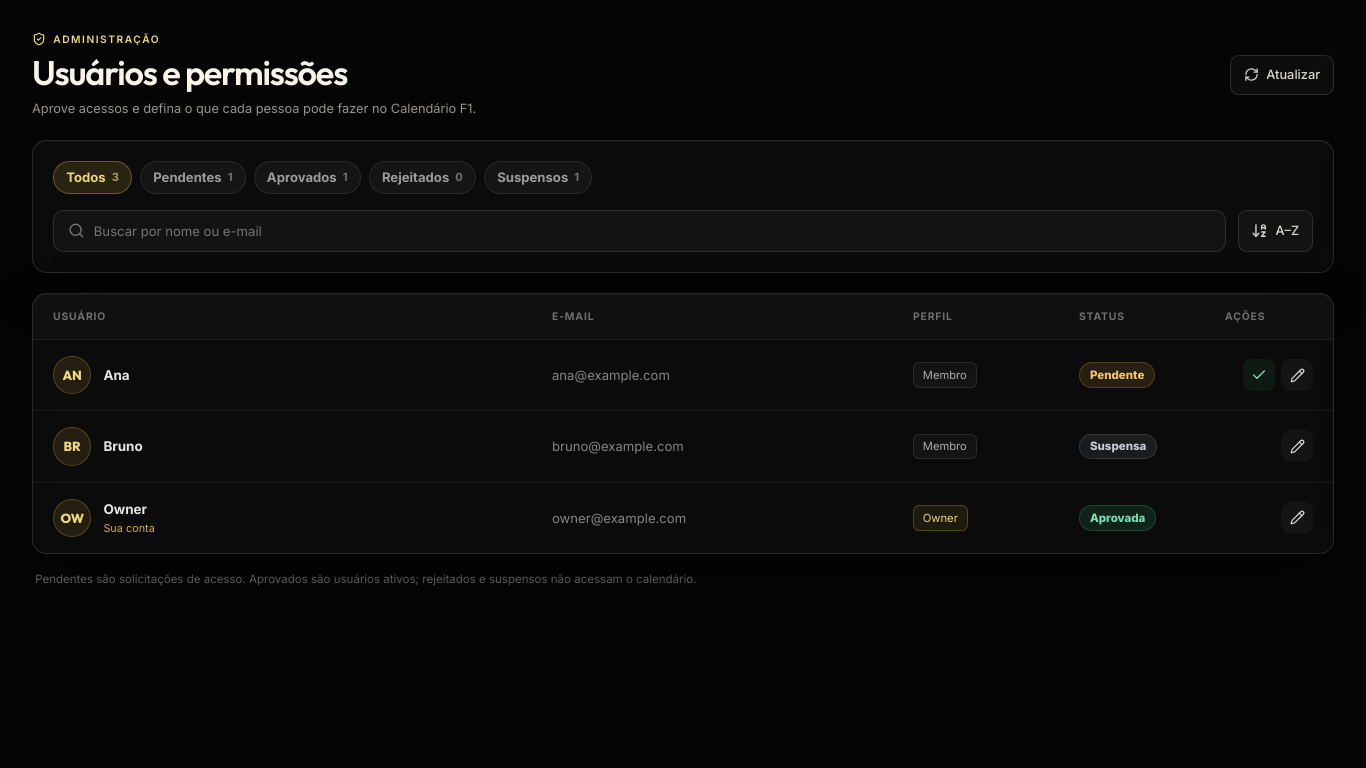
Scenario: reference-style users panel › uses custom status/permission controls and retains a failed draft
The width and height of the screenshot is (1366, 768).
Click the button named "Editar Ana" at (1297, 375), box [1281,359,1313,391]
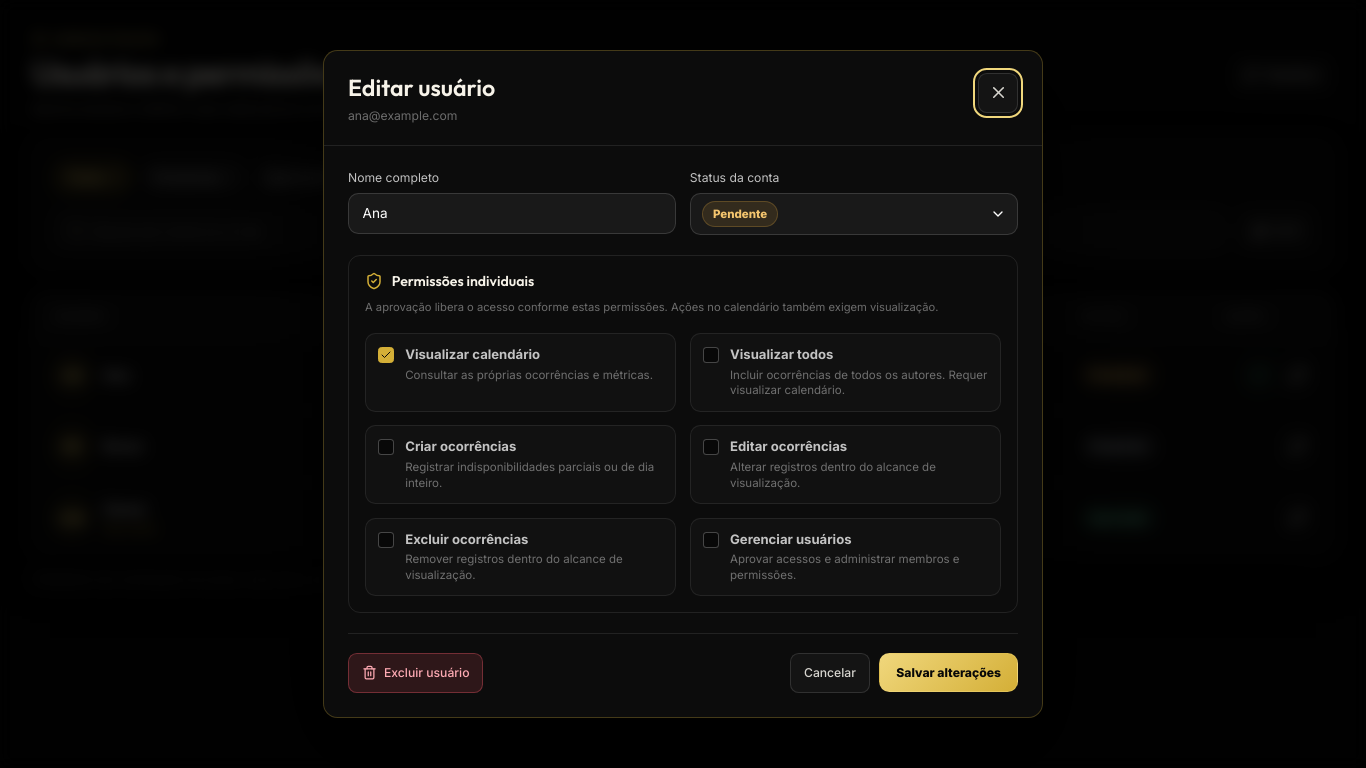
Click the button named "Status da conta: Pendente" at (740, 214), box [690,193,1018,236]
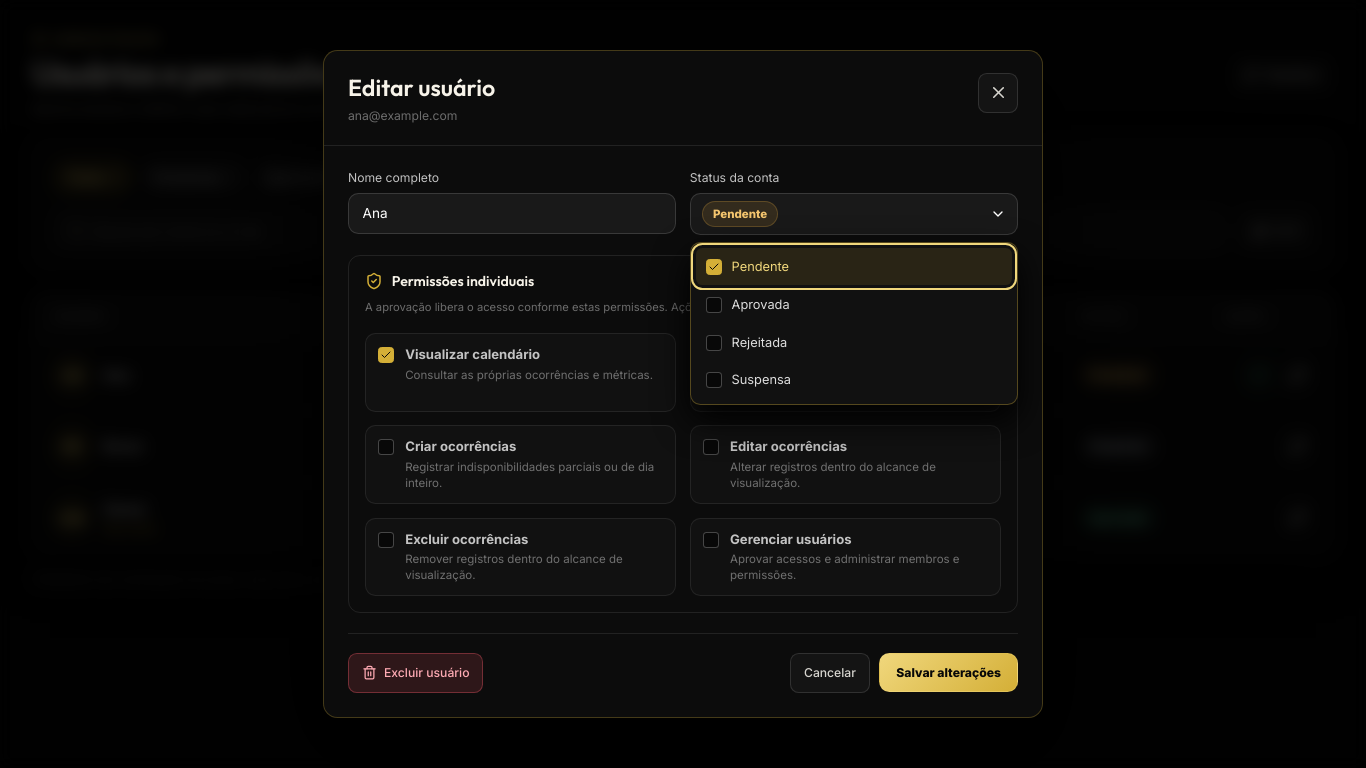
Click the option "Aprovada" at (761, 304), box [696,286,1012,323]
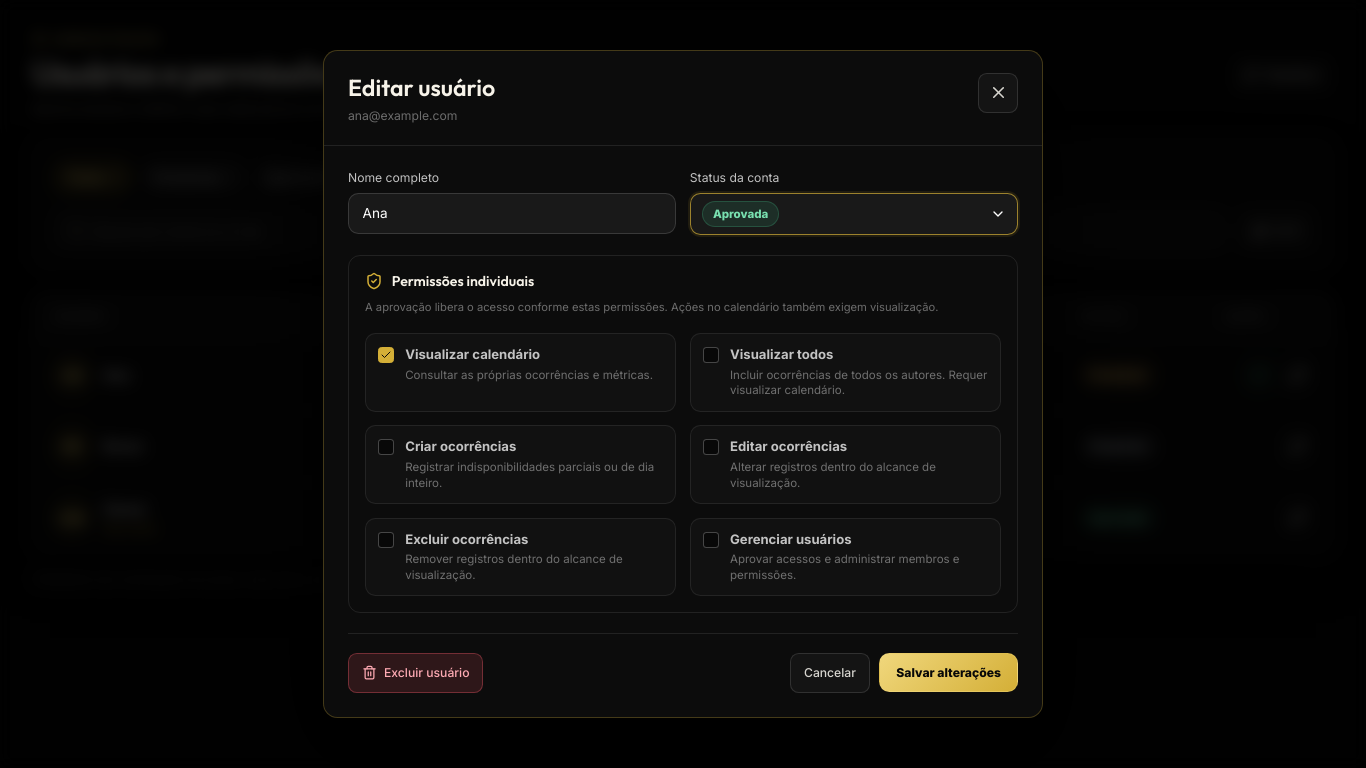
Click the checkbox labelled "Visualizar todos" at (845, 373), box [690,333,1001,412]
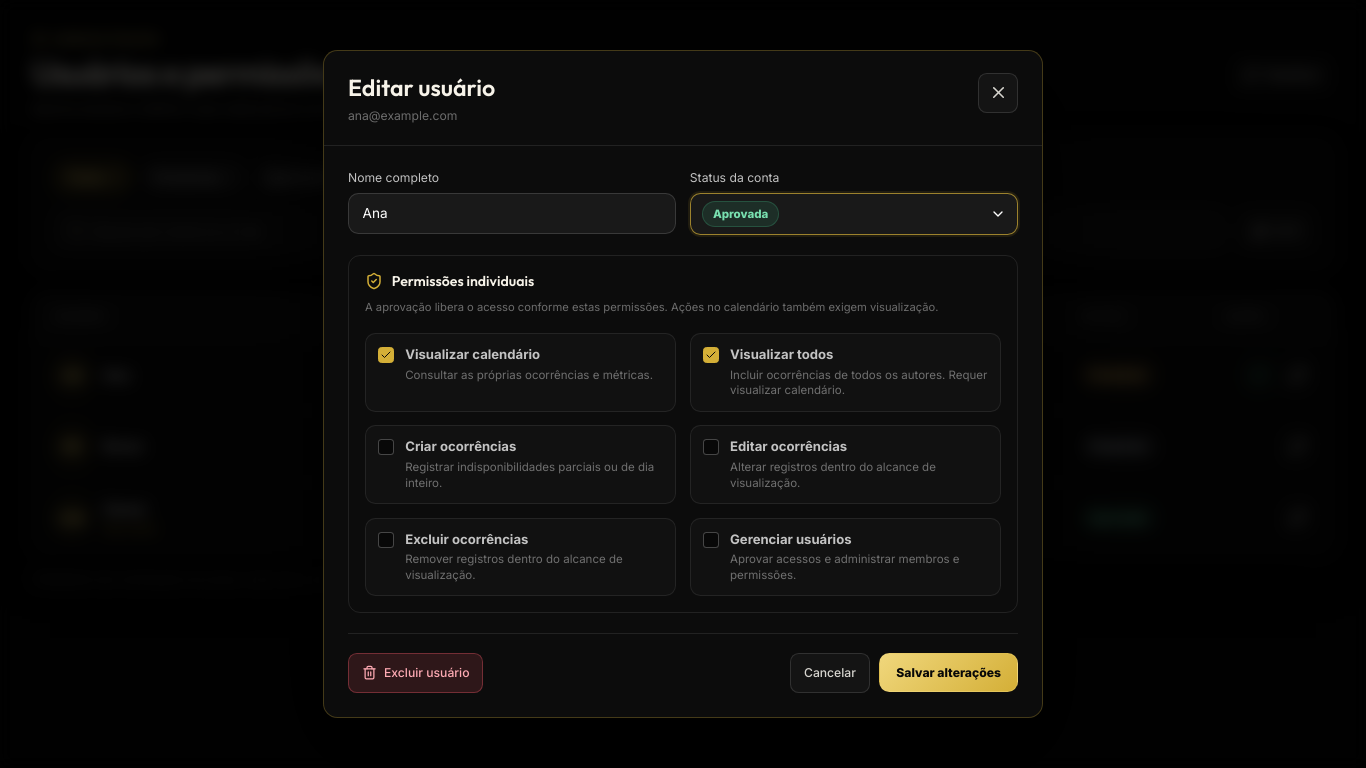
Replace the text in the field labelled "Nome completo" with "Ana Silva" at (512, 213), box [348,193,676,234]
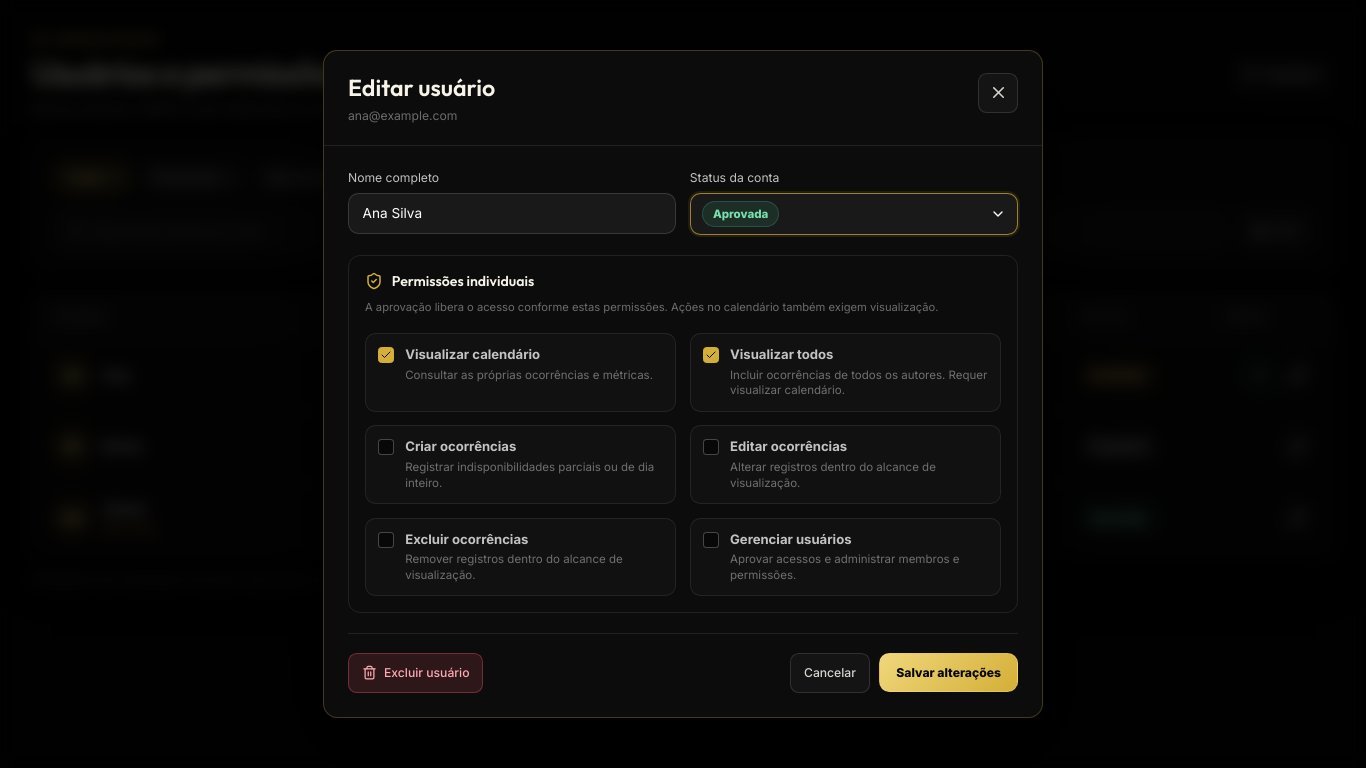
Click the button "Salvar alterações" at (949, 673), box [879,653,1018,692]
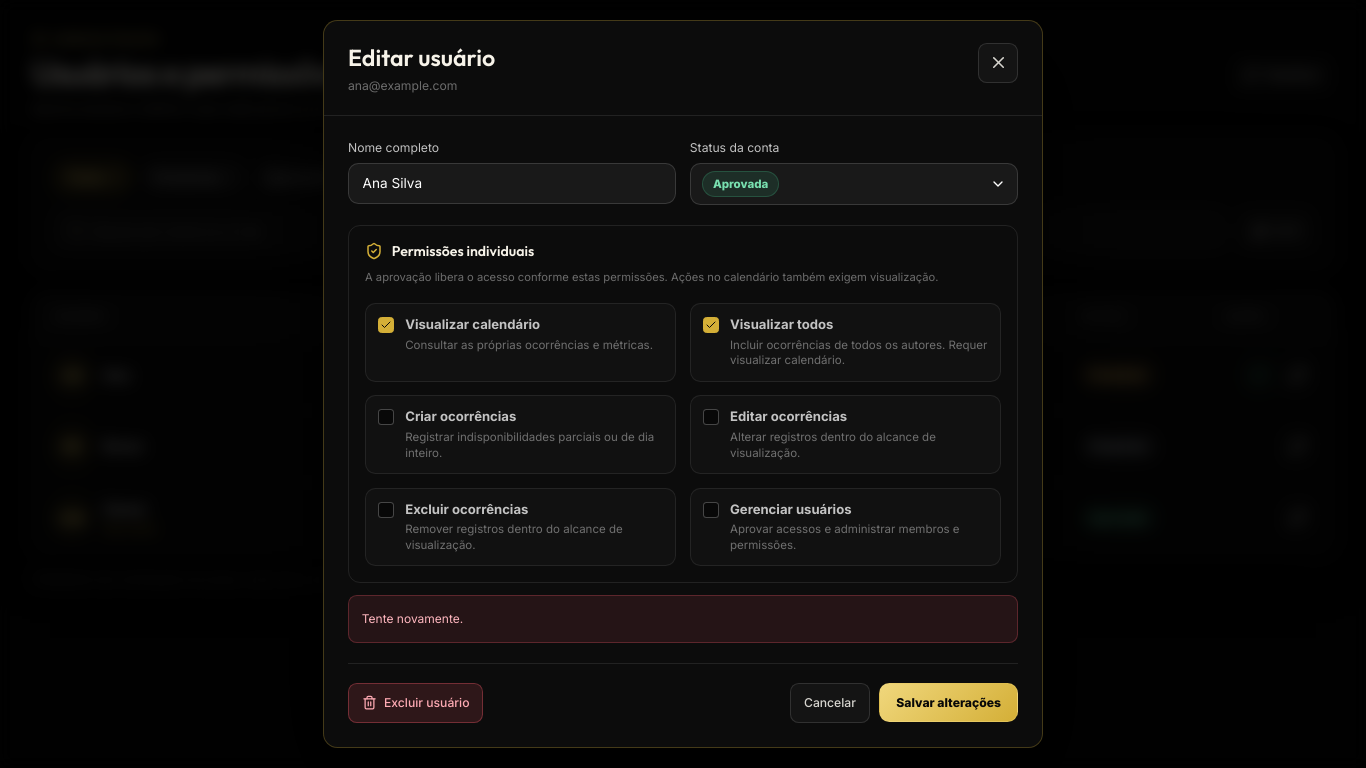
Check: the message shows "Tente novamente", box [362,611,463,626]
